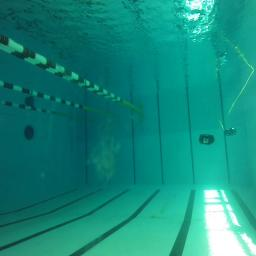Full: (224, 127, 237, 135)
Side: (198, 133, 215, 144)
